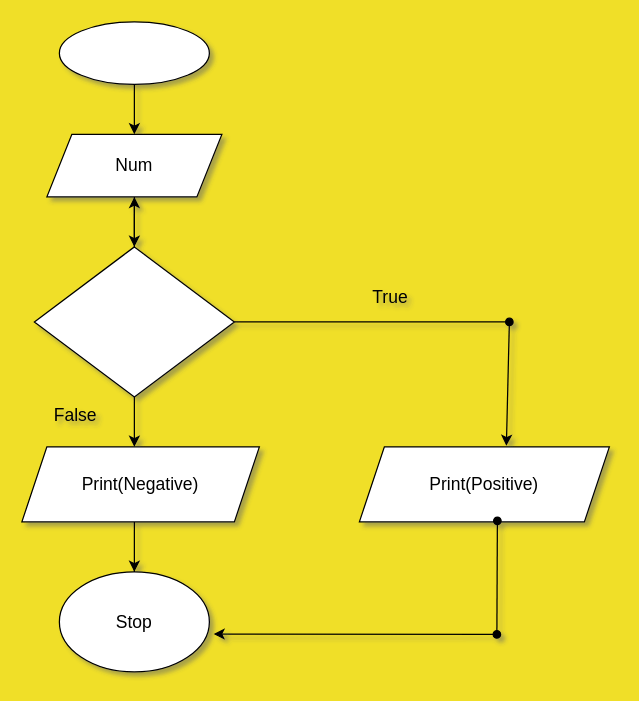
Some shapes in this 639 by 701 pixel diagram are drawn without their labels. Here are the shapes that lost their labels. From the top down, the centre of each, then its label:
At (x=133, y=52): "Start".
At (x=133, y=321): "if(Num >= 0)".
